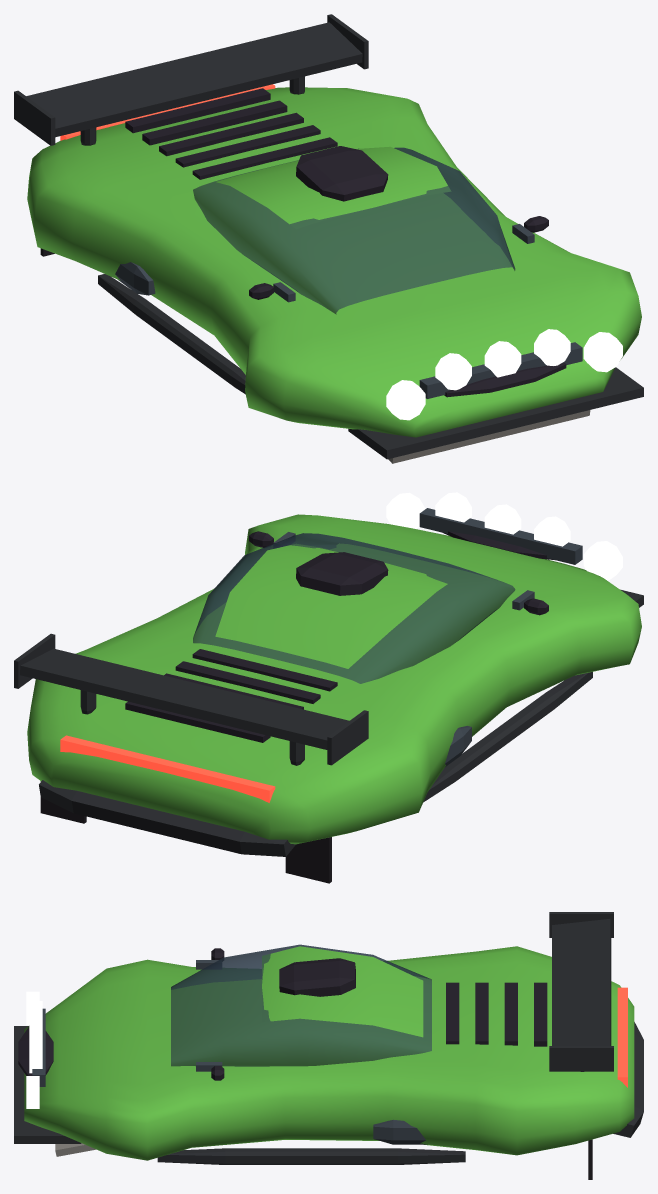
File: serrano_body.glb
3 views of the same model, one above another, from view 1: azimuth 30°, elevation 25°; view 2: azimuth 150°, elevation 25°; view 3: azimuth 270°, elevation 25° (orthographic). The views are drawn at different scales.
Parts seen in each view (by area): view 1: serrano_body; view 2: serrano_body; view 3: serrano_body.
Part boxes in pixels (x1,y1,x2,y2): serrano_body: (14, 14, 643, 463); serrano_body: (14, 492, 643, 883); serrano_body: (14, 912, 643, 1179).
Size of the model in its own units: 2.68 by 1.12 by 4.29.
